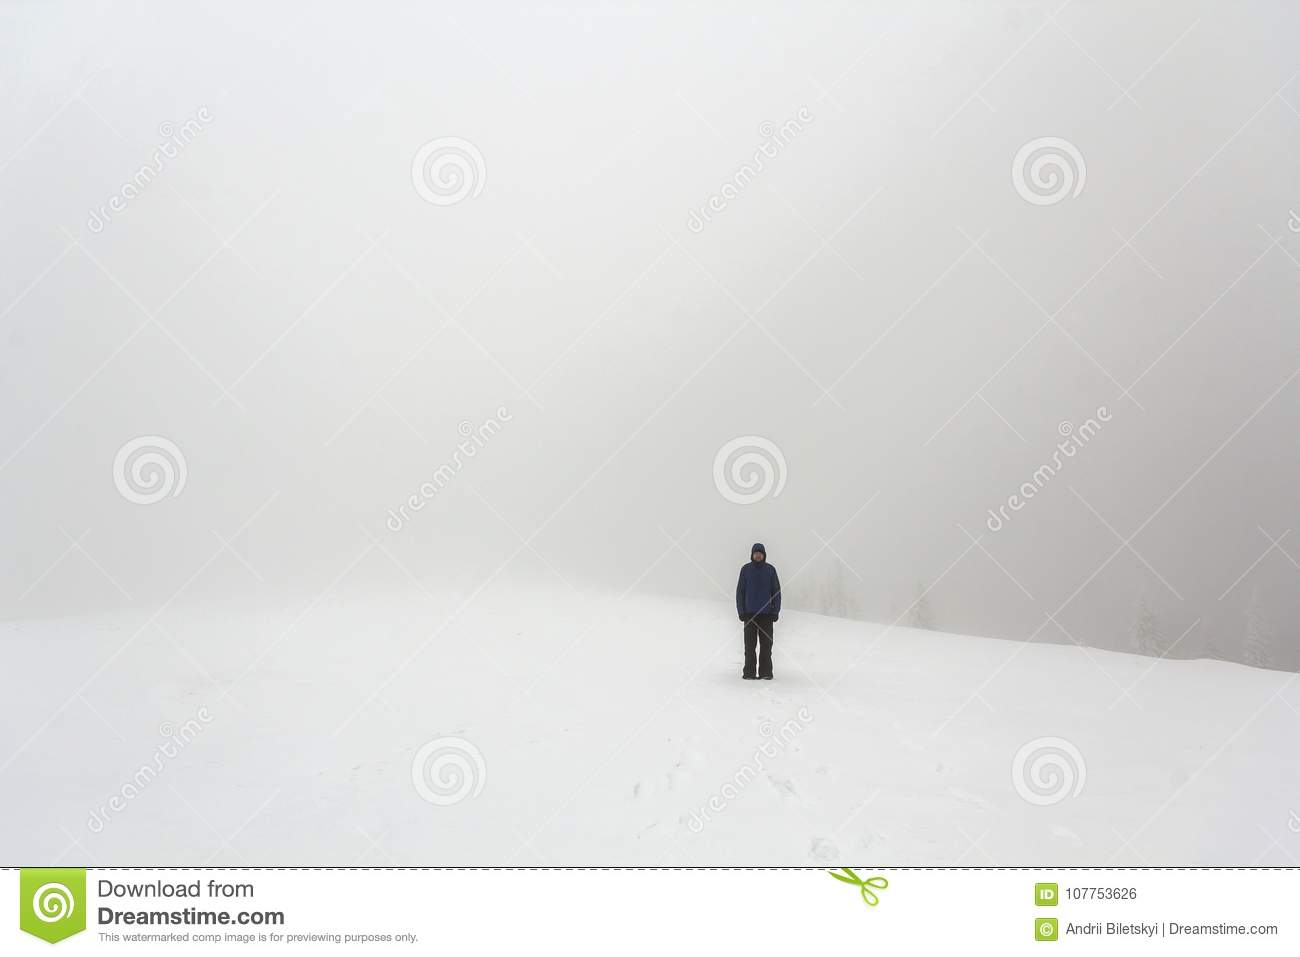Person: (693, 522, 800, 713)
